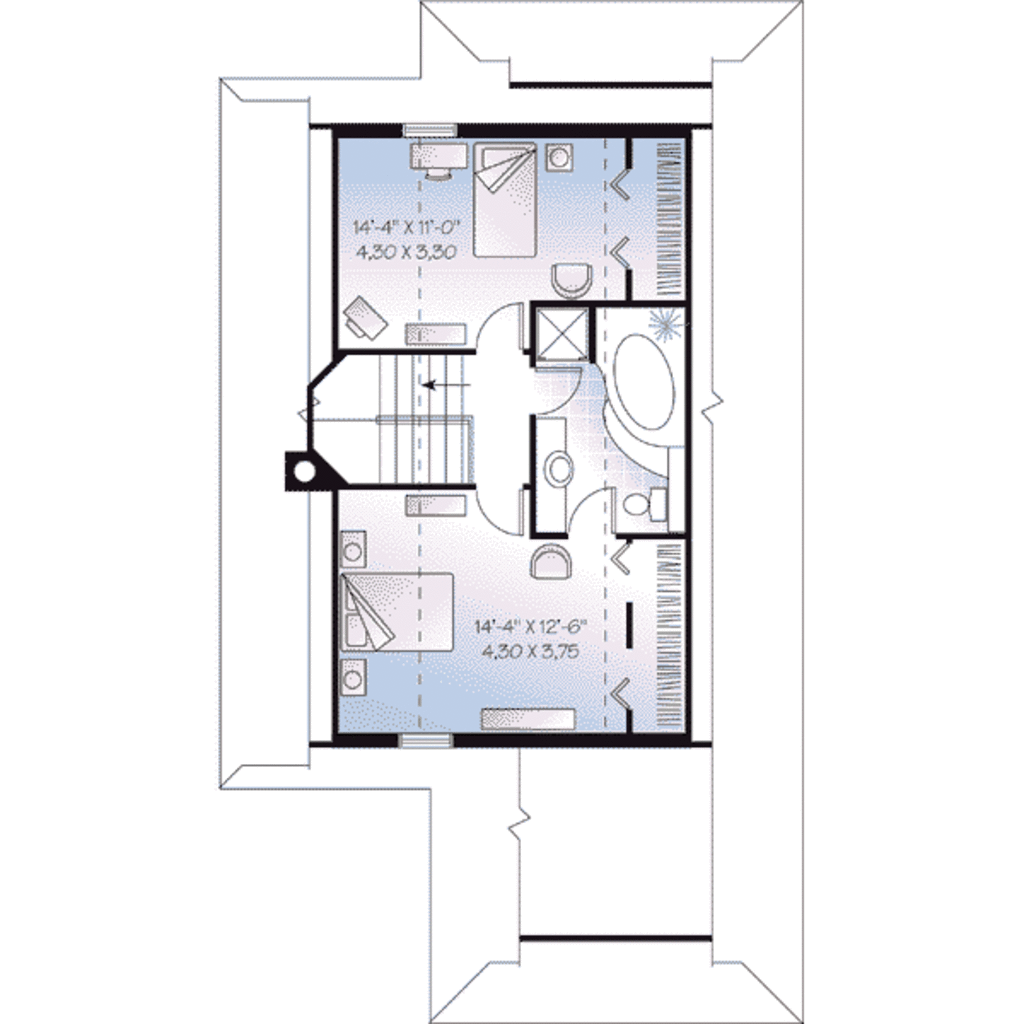bed: (334, 570, 458, 656), (472, 143, 540, 264)
door: (477, 485, 530, 545), (537, 364, 584, 423), (476, 300, 529, 349), (566, 486, 615, 539)
large_sink: (621, 478, 667, 525)
stairs: (309, 354, 478, 487)
tub: (609, 331, 677, 439)
windows: (391, 731, 452, 751), (398, 125, 458, 143)
